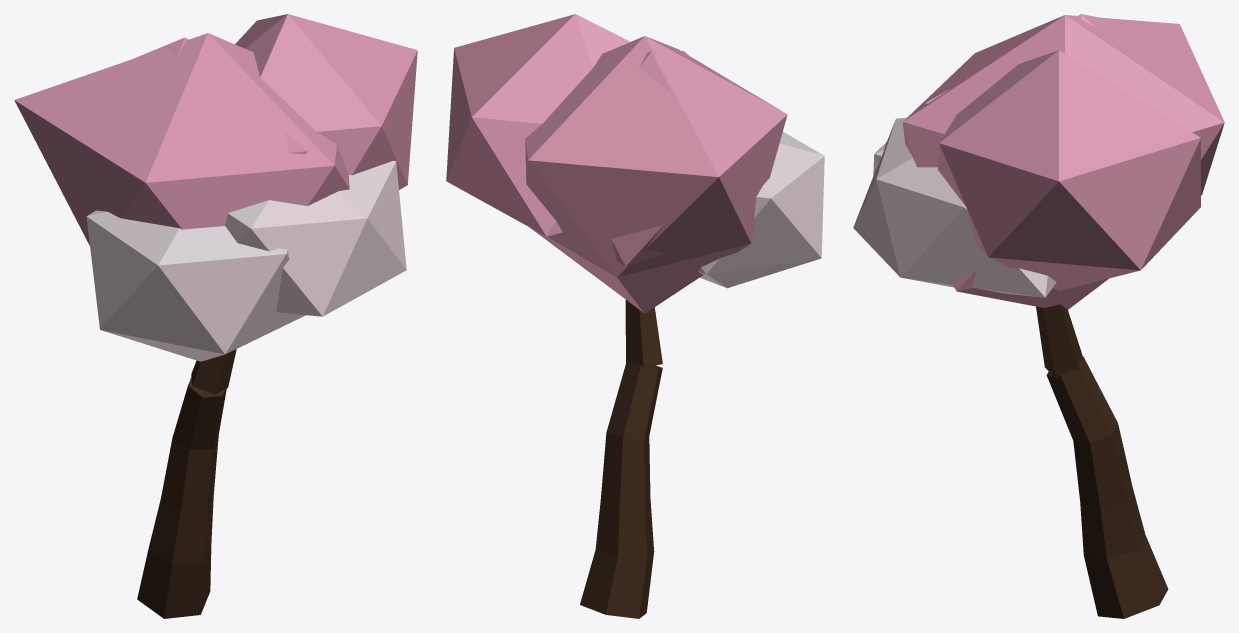
Rendered from Tree_Blossom_A.glb.
3 renders of one model, left to right at view 1: azimuth 30°, elevation 25°; view 2: azimuth 150°, elevation 25°; view 3: azimuth 270°, elevation 25°, orthographic. The views are drawn at different scales.
Parts seen in each view (by area): view 1: Tree_Blossom_A; view 2: Tree_Blossom_A; view 3: Tree_Blossom_A.
Boxes of the visible parts, box(x1,y1,x2,y2) form: Tree_Blossom_A: box(14, 14, 417, 618); Tree_Blossom_A: box(446, 14, 824, 618); Tree_Blossom_A: box(853, 14, 1224, 618).
Bounding box in the file's own units: 2.37 × 3.81 × 2.14.
